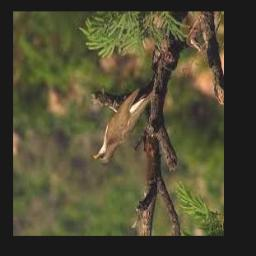Cuckoo: (93, 88, 155, 165)
